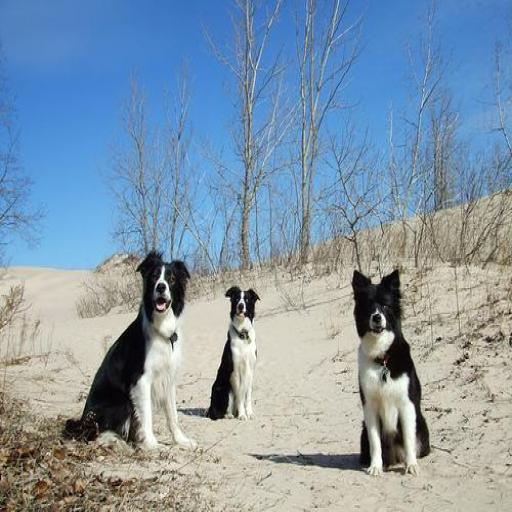dog_face: (354, 264, 403, 346), (139, 246, 188, 318), (222, 283, 267, 326)
